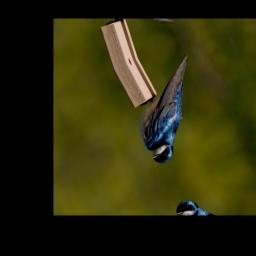Swallow: (117, 52, 223, 171)
